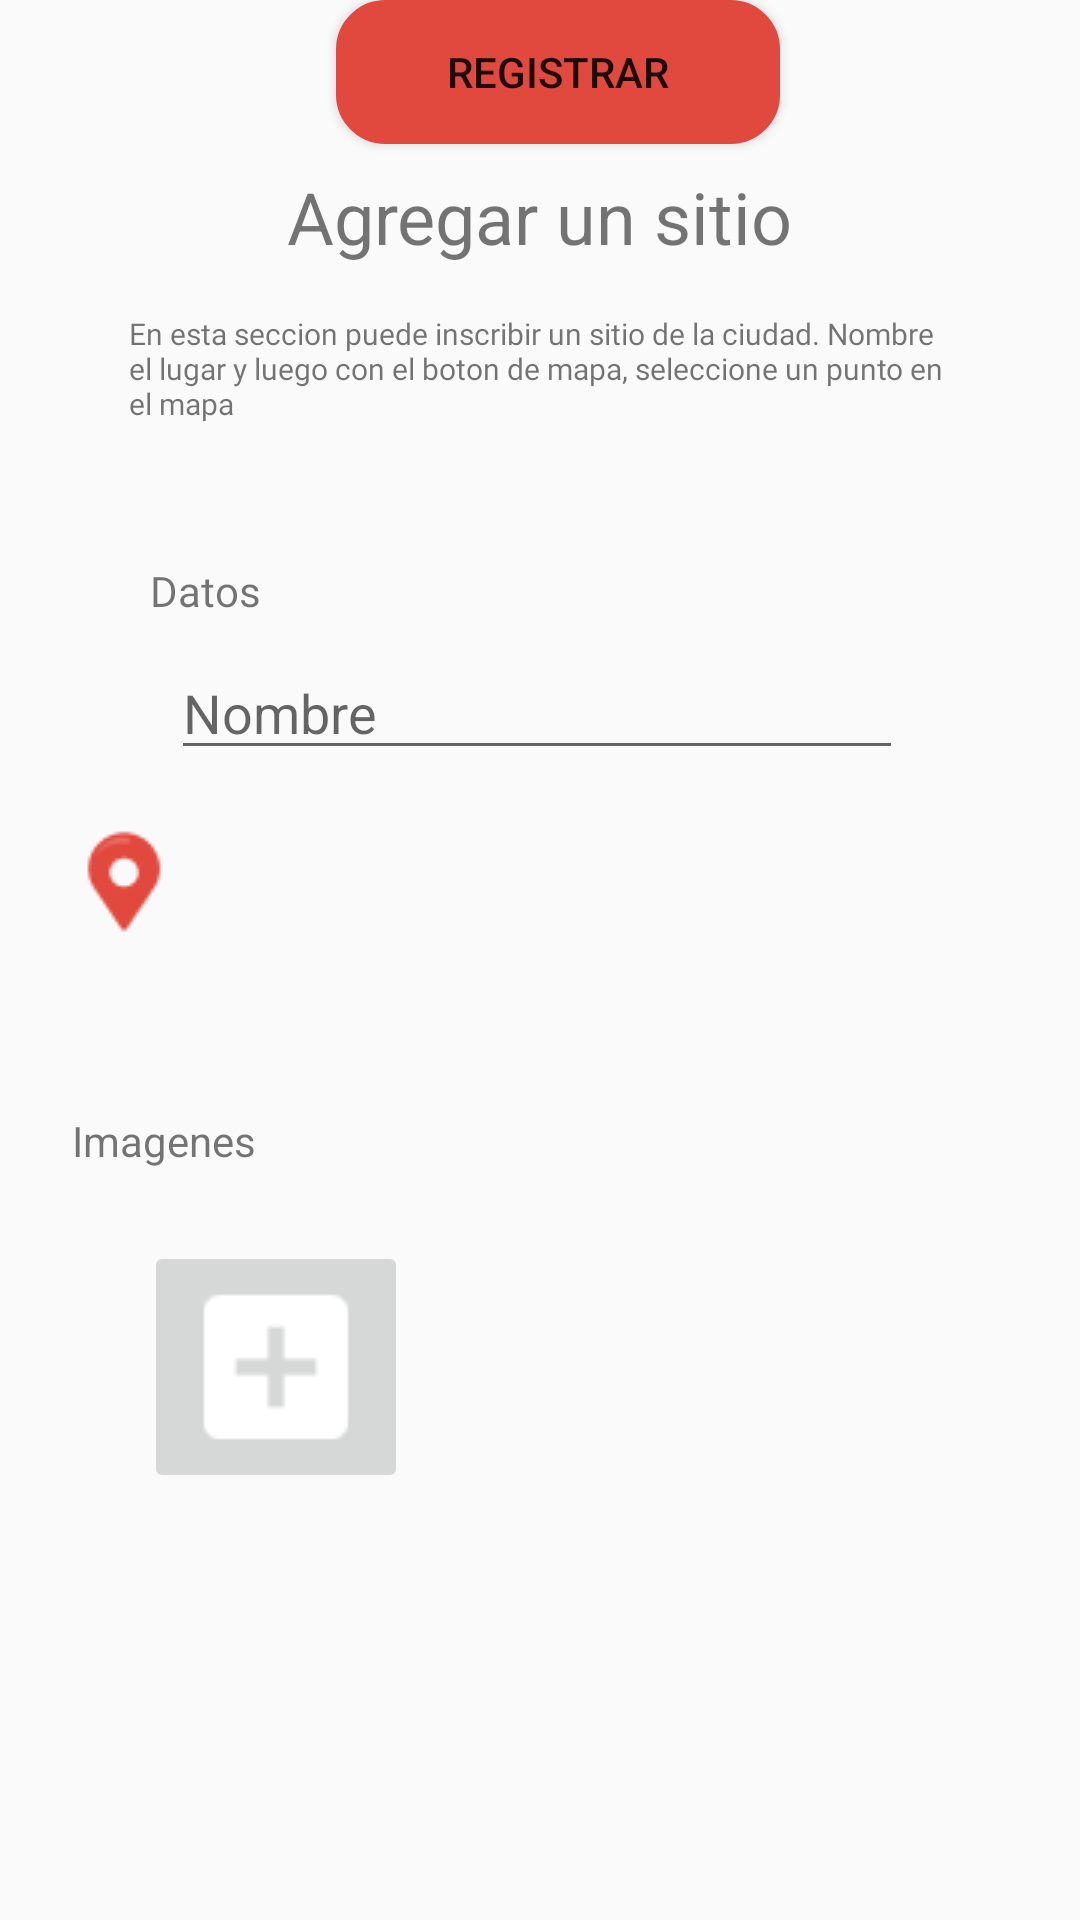

Locate icon controls on the screen. Image size 1080x1920, boxes as (x1, y1, x2, y2).
add: (156, 1259, 396, 1475)
pin map: (87, 831, 161, 932)
